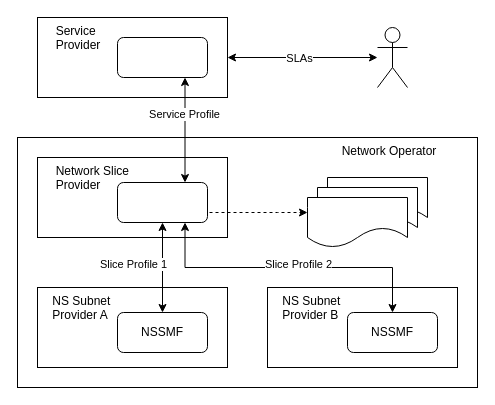
Some shapes in this 495 by 405 pixel diagram are drawn without their labels. Each missing label, with the centre of its shape:
"CSMF" goes at [162,57].
"Customer" goes at [392,57].
"NS Instances" goes at [357,222].
"NSMF" goes at [162,202].
